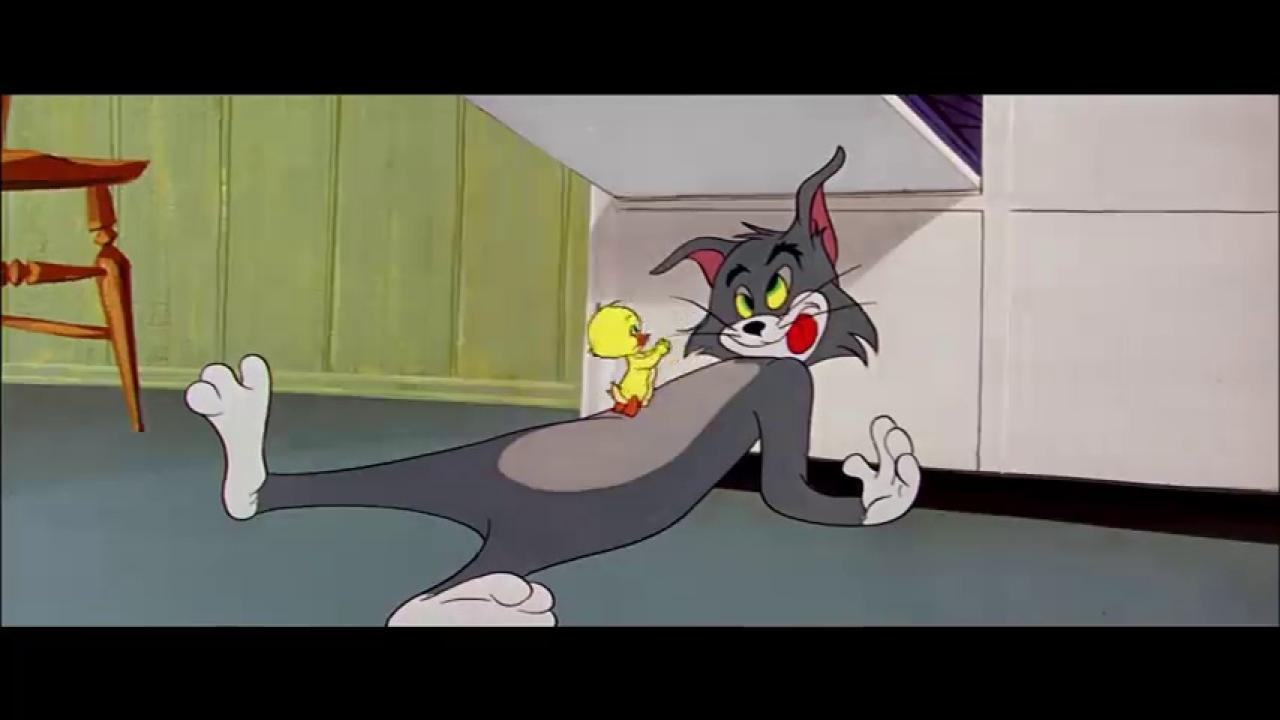Tom: (185, 144, 924, 626)
